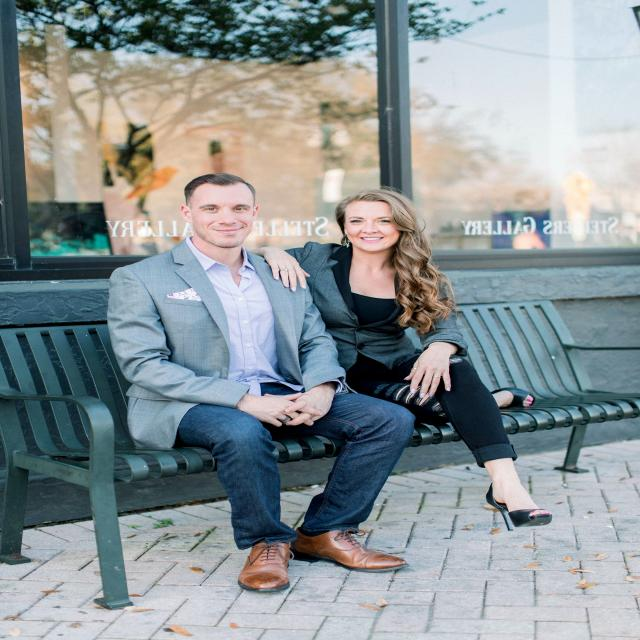adult: (101, 173, 420, 592), (261, 186, 554, 530)
